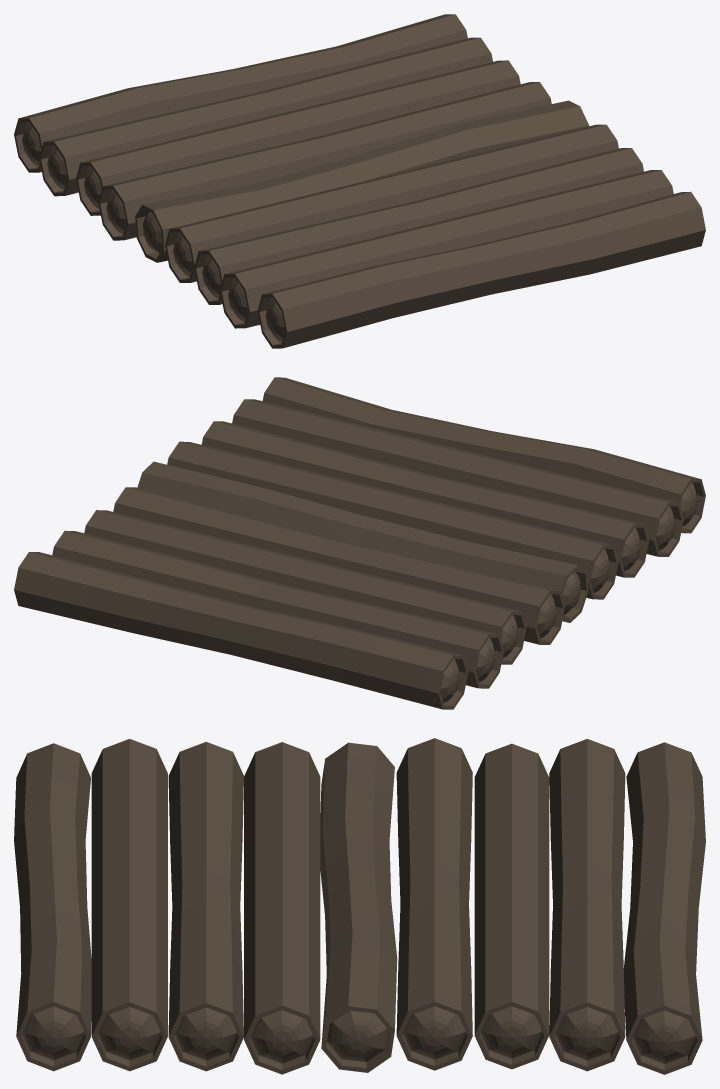
File: Logs_Raft.fbx
3 renders of one model, top to bottom at view 1: azimuth 30°, elevation 25°; view 2: azimuth 150°, elevation 25°; view 3: azimuth 270°, elevation 25°, orthographic. The views are drawn at different scales.
Visible parts, largest first — view 1: Log_Bent_10, Log_Straight_12, Log_Straight_11, Log_Bent_11, Log_Bent_12, Log_Straight_06, Log_Flare_06, Log_Flare_07, Log_Flare_11; view 2: Log_Bent_12, Log_Straight_12, Log_Flare_06, Log_Straight_11, Log_Bent_11, Log_Flare_07, Log_Straight_06, Log_Flare_11, Log_Bent_10; view 3: Log_Straight_11, Log_Straight_12, Log_Straight_06, Log_Flare_07, Log_Flare_06, Log_Bent_12, Log_Flare_11, Log_Bent_11, Log_Bent_10.
Part boxes in pixels (x1,y1,x2,y2): Log_Bent_10: (257,191,705,348); Log_Straight_12: (220,170,673,328); Log_Straight_11: (165,124,618,282); Log_Bent_11: (135,100,589,262); Log_Bent_12: (14,14,467,172); Log_Straight_06: (76,60,520,215); Log_Flare_06: (39,37,492,196); Log_Flare_07: (98,82,551,240); Log_Flare_11: (194,148,643,304); Log_Bent_12: (14,552,468,709); Log_Straight_12: (232,399,683,556); Log_Flare_06: (52,530,503,688); Log_Straight_11: (167,441,618,599); Log_Bent_11: (137,461,588,622); Log_Flare_07: (113,487,564,644); Log_Straight_06: (84,510,526,664); Log_Flare_11: (201,421,649,577); Log_Bent_10: (262,377,705,533); Log_Straight_11: (244,742,320,1074); Log_Straight_12: (91,739,167,1071); Log_Straight_06: (474,743,549,1069); Log_Flare_07: (396,738,472,1070); Log_Flare_06: (549,739,625,1071); Log_Bent_12: (623,742,705,1074); Log_Flare_11: (168,742,243,1071); Log_Bent_11: (320,742,397,1072); Log_Bent_10: (14,743,91,1071).
Bounding box in the file's own units: 149 × 19.47 × 162.
